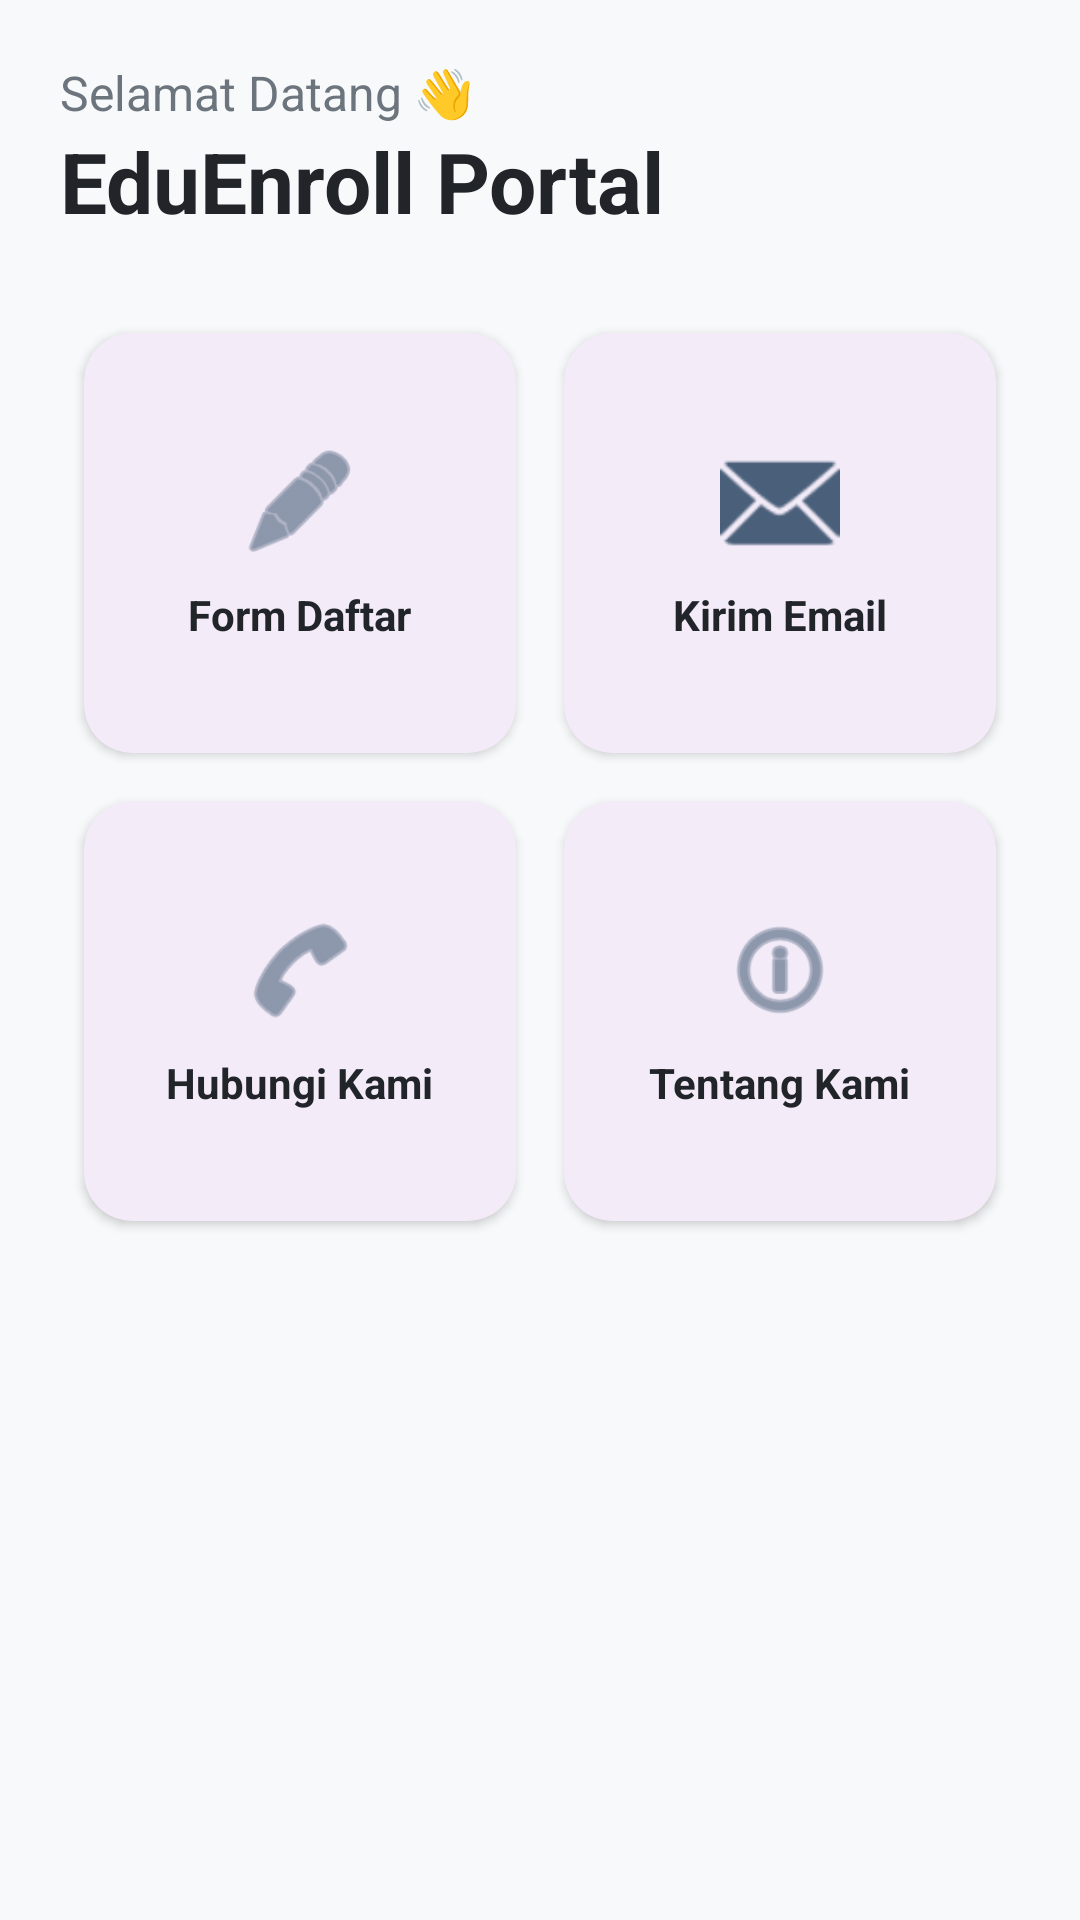

Point at icon controls on the screen. Image size 1080×1920, points as (x,y).
call: (300,970)
edit: (299,501)
info details: (780,970)
